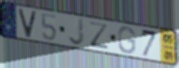5: (40, 12, 57, 42)
7: (139, 28, 159, 58)
G: (117, 26, 137, 55)
J: (67, 18, 85, 47)
V: (17, 7, 38, 39)
Z: (88, 21, 110, 51)
